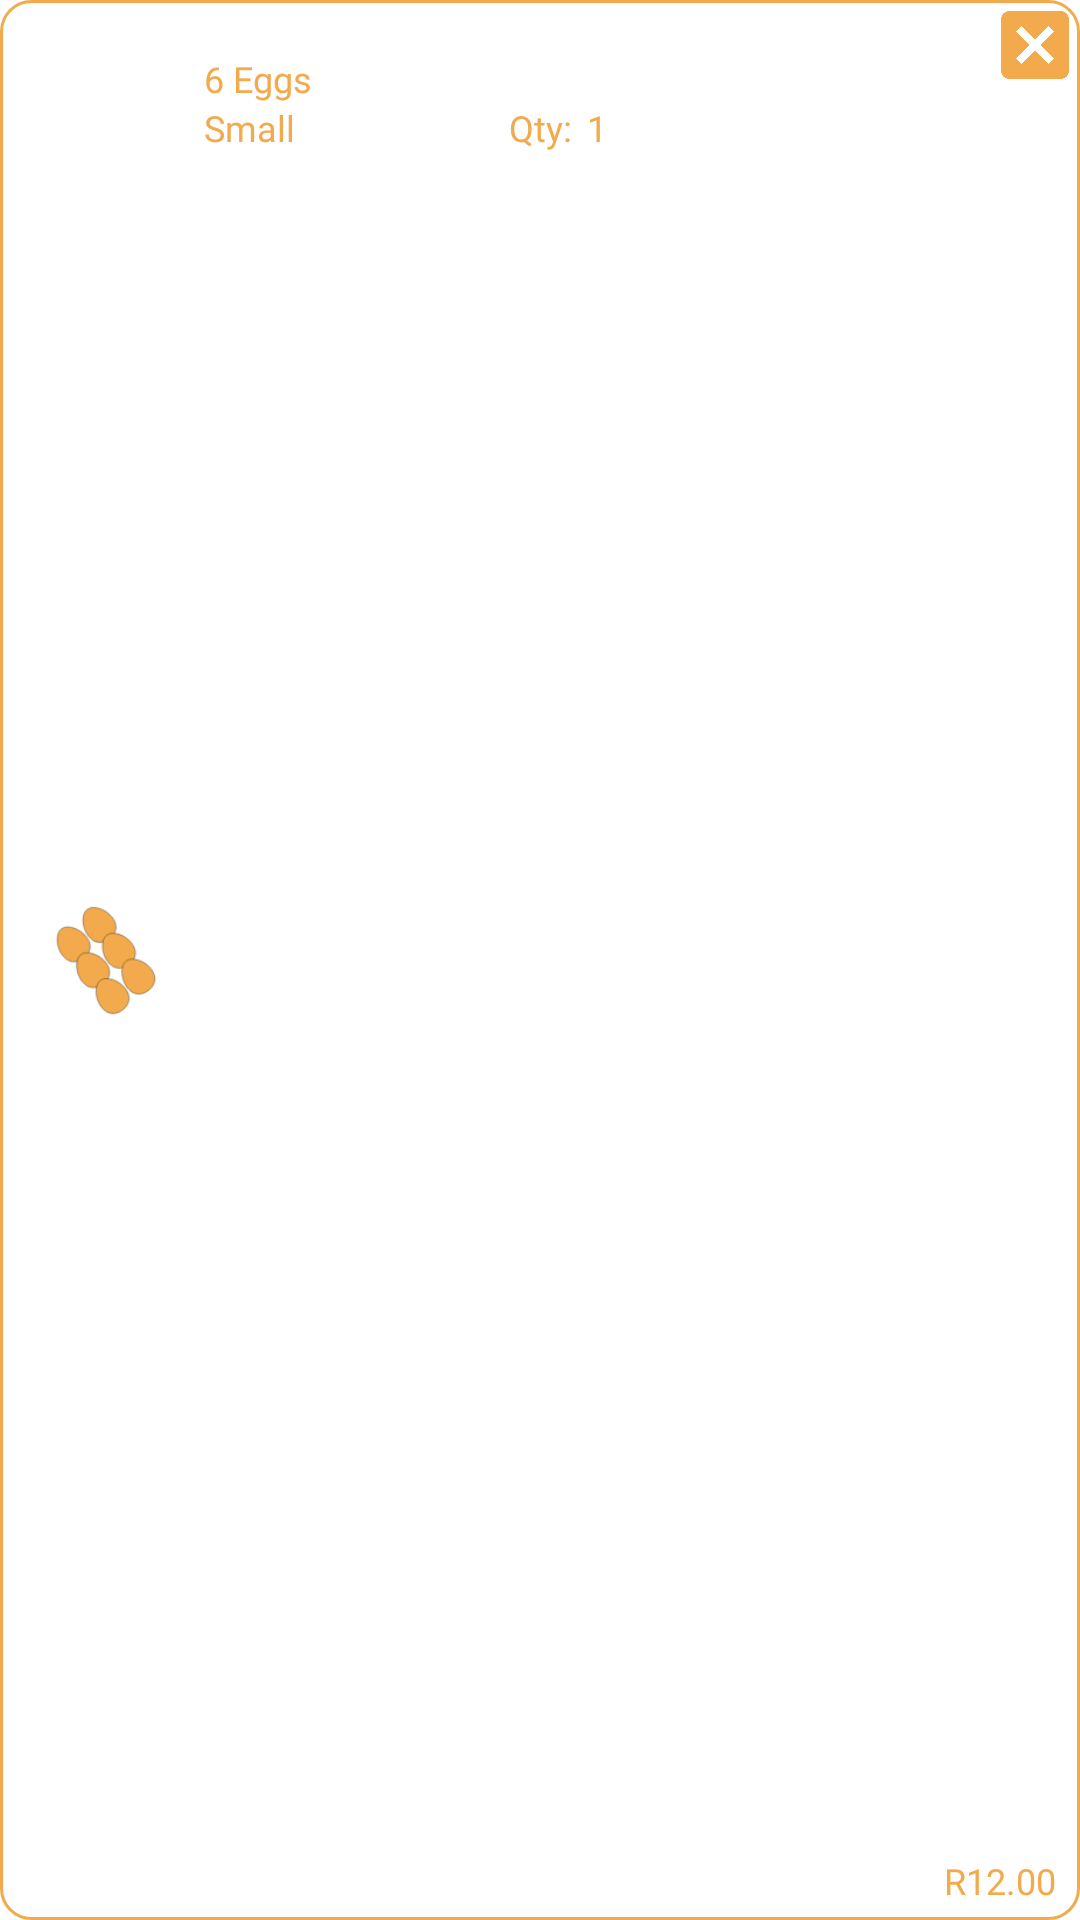

Named icons in this screenshot (1080w x 1920h) and their centers, [x,y]:
basket delete: [1035,45]
six: [106,961]
